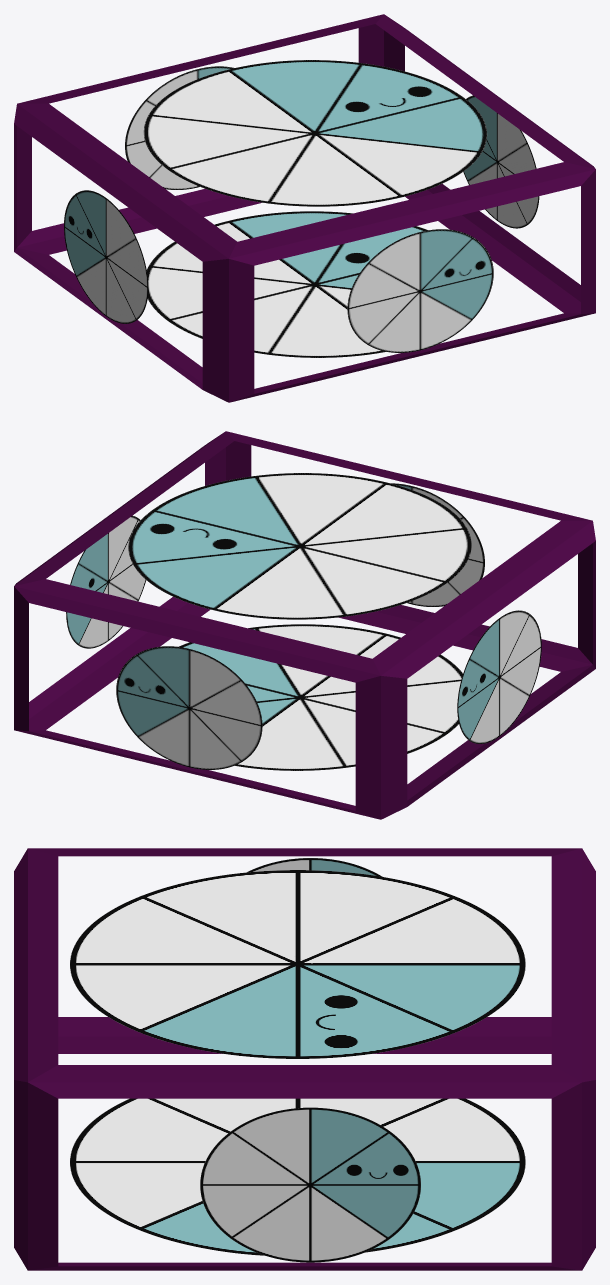
Rendered from Fracciones tres octavos.fbx.
3 renders of one model, top to bottom at view 1: azimuth 30°, elevation 25°; view 2: azimuth 150°, elevation 25°; view 3: azimuth 270°, elevation 25°, orthographic. The views are drawn at different scales.
Parts seen in each view (by area): view 1: 3/8; view 2: 3/8; view 3: 3/8.
Boxes of the visible parts, <box> form: 3/8: <box>14,14,595,402</box>; 3/8: <box>14,431,595,819</box>; 3/8: <box>14,848,595,1270</box>.
Size of the model in its own units: 213 by 78.75 by 210.
Materials: 2 (1 with a texture image).
